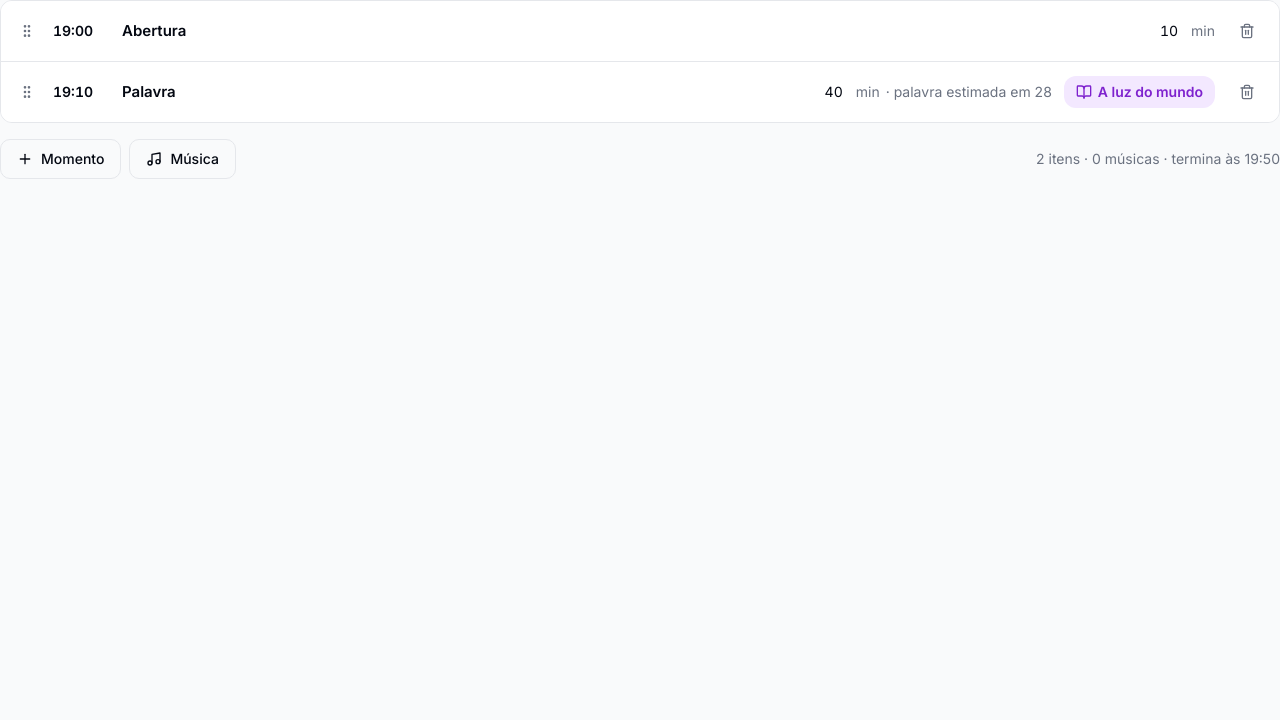
Scenario: MomentsTab: palavra do culto › a etiqueta da palavra é um botão que busca e mostra os slides
What coordinates should you click on to do the following:
click the button "A luz do mundo"
I would click on:
 (1139, 92)
Its box is [1064, 76, 1215, 108].
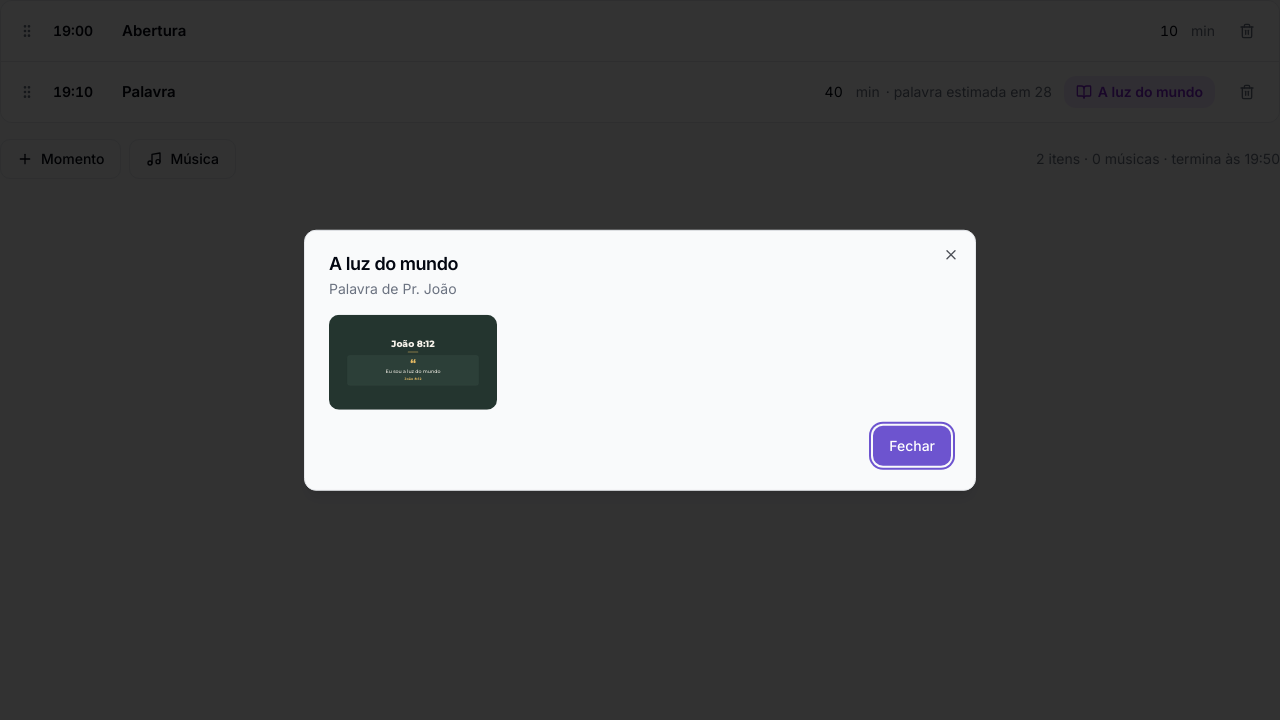
Result: the number of elements with test id "slide-card" is 1 at [329, 315, 497, 409]
